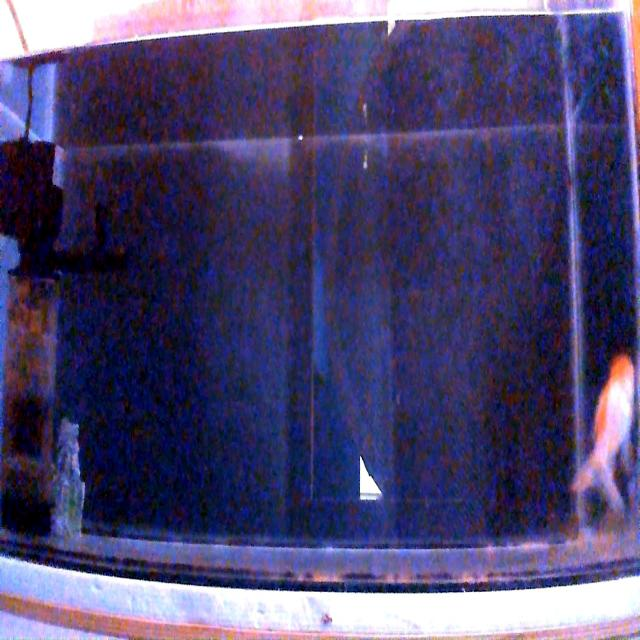fish: (571, 354, 635, 507)
